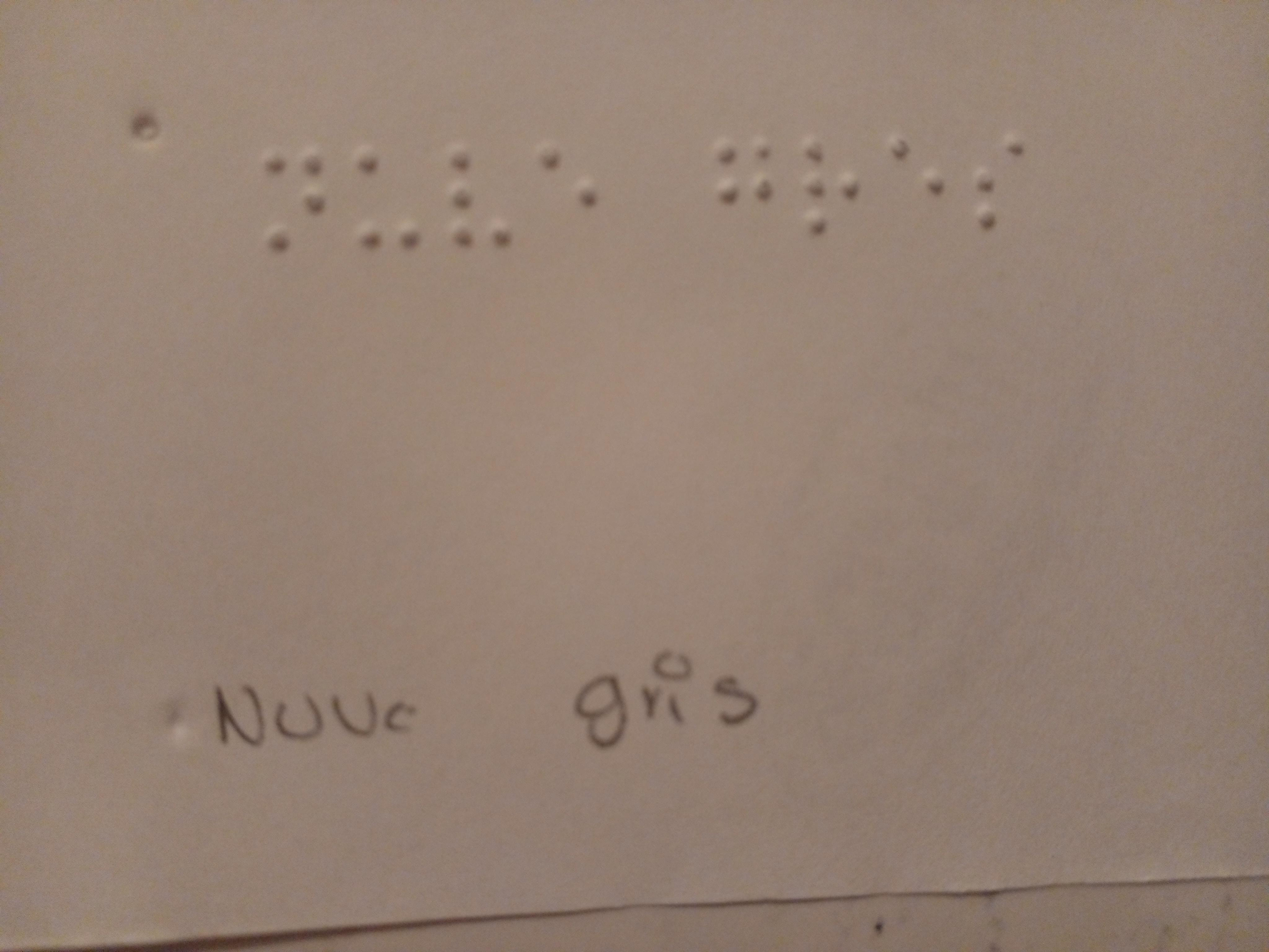e: (528, 135, 610, 214)
g: (709, 132, 782, 217)
i: (878, 129, 959, 211)
n: (243, 130, 336, 254)
r: (799, 124, 867, 246)
s: (967, 130, 1025, 239)
u: (345, 138, 434, 267)
v: (428, 132, 525, 257)
